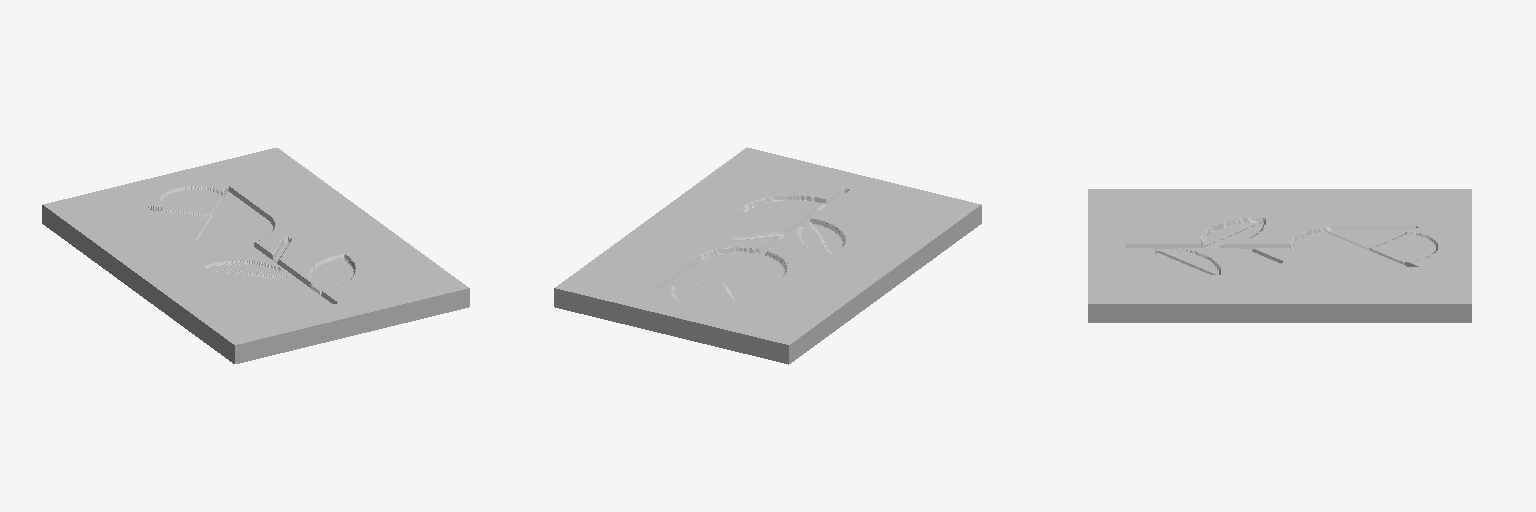
The model's file is tulip.obj.
3 renders of one model, left to right at view 1: azimuth 30°, elevation 25°; view 2: azimuth 150°, elevation 25°; view 3: azimuth 270°, elevation 25°, orthographic.
Visible parts, largest first — view 1: Plane.019; view 2: Plane.019; view 3: Plane.019.
Part boxes in pixels (bbox=[...]): Plane.019: bbox=[42, 148, 469, 363]; Plane.019: bbox=[554, 147, 981, 364]; Plane.019: bbox=[1088, 189, 1471, 322].
Bounding box in the file's own units: 2.96 × 0.2324 × 4.2.